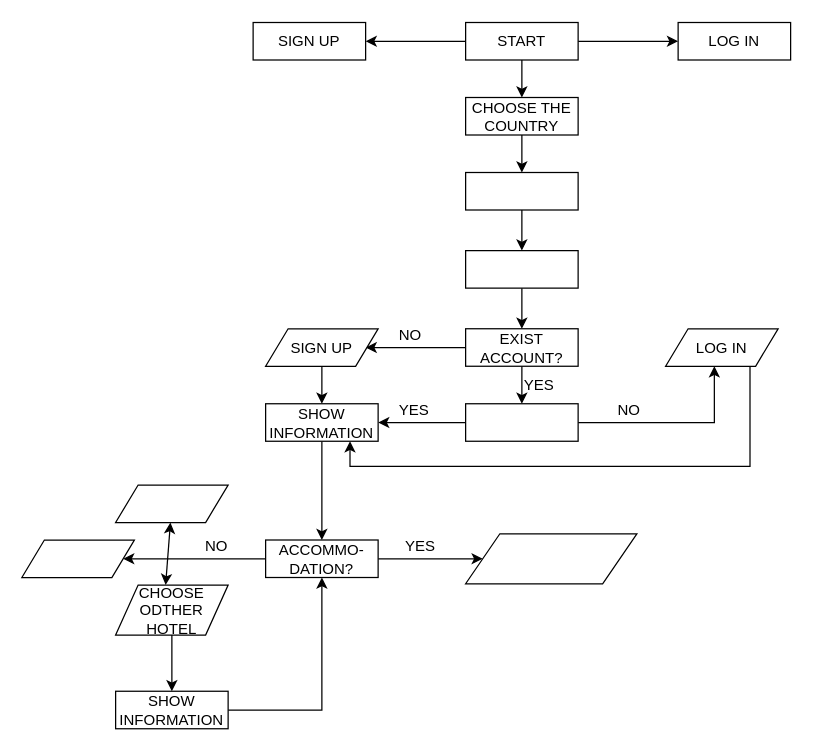
This 813x750 diagram has some shape labels left out. Each missing label, with the centre of its shape:
ACCOMMODATION FORM: (550,558)
ARE YOU CONNECTED?: (521,421)
CHOOSE THE HOTEL: (521,268)
CHOOSE THE TOWN: (521,190)
SIGN OUT: (171,503)
WISH LIST: (77,558)
